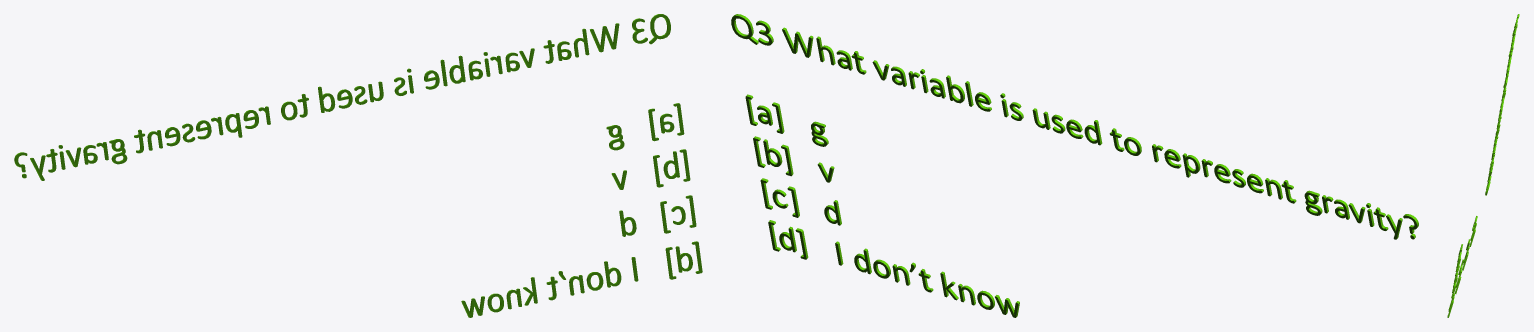
File: AST_q3.fbx
The picture shows the model from 3 angles, left to right: view 1: azimuth 30°, elevation 25°; view 2: azimuth 150°, elevation 25°; view 3: azimuth 270°, elevation 25°; orthographic projection. The views are drawn at different scales.
Parts seen in each view (by area): view 1: q3; view 2: q3; view 3: q3.
Boxes of the visible parts, box(x1,y1,x2,y2) form: q3: box(14, 14, 702, 317); q3: box(731, 14, 1418, 317); q3: box(1447, 14, 1519, 317).
Bounding box in the file's own units: 116 × 41.35 × 20.09.
